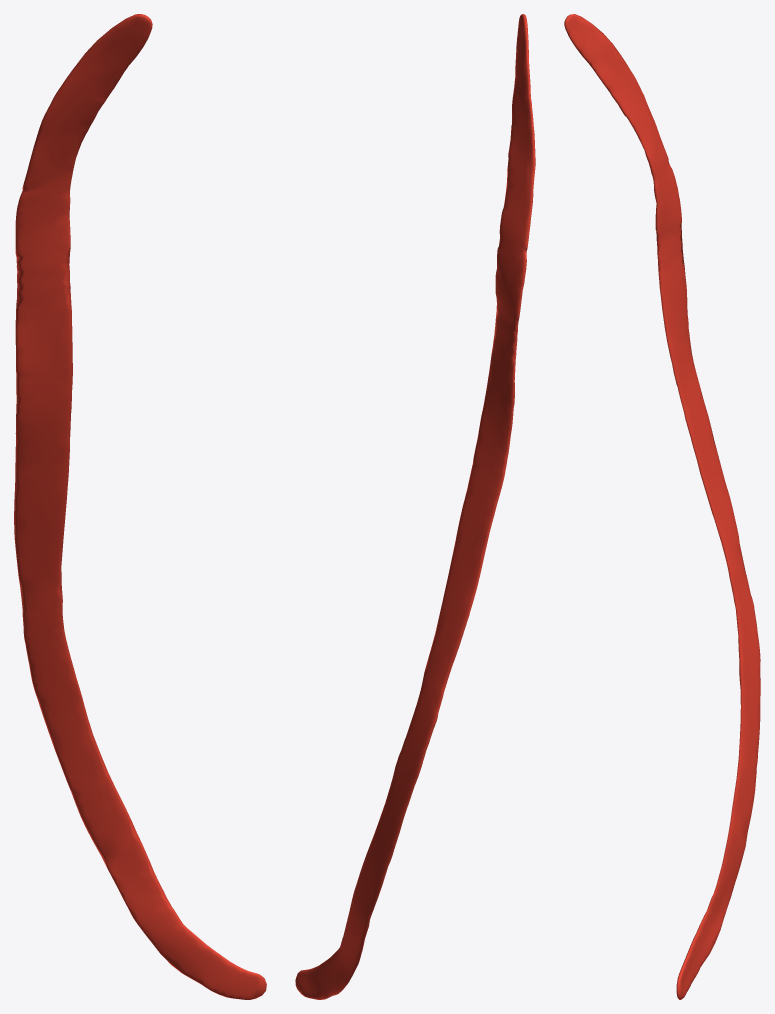
Rendered from Serratus_anterior_muscle-Scapular_insertion.l_Generated_Mesh_Fr.glb.
3 views of the same model, side by side, from view 1: azimuth 30°, elevation 25°; view 2: azimuth 150°, elevation 25°; view 3: azimuth 270°, elevation 25° (orthographic). The views are drawn at different scales.
Visible parts, largest first — view 1: Serratus_anterior_muscle-Scapular_insertion.l_Generated_Mesh; view 2: Serratus_anterior_muscle-Scapular_insertion.l_Generated_Mesh; view 3: Serratus_anterior_muscle-Scapular_insertion.l_Generated_Mesh.
Part boxes in pixels (box(x1,y1,x2,y2)): Serratus_anterior_muscle-Scapular_insertion.l_Generated_Mesh: box(14, 14, 266, 999); Serratus_anterior_muscle-Scapular_insertion.l_Generated_Mesh: box(295, 14, 535, 999); Serratus_anterior_muscle-Scapular_insertion.l_Generated_Mesh: box(564, 14, 760, 999).
Bounding box in the file's own units: 0.0328 × 0.1343 × 0.0262.
